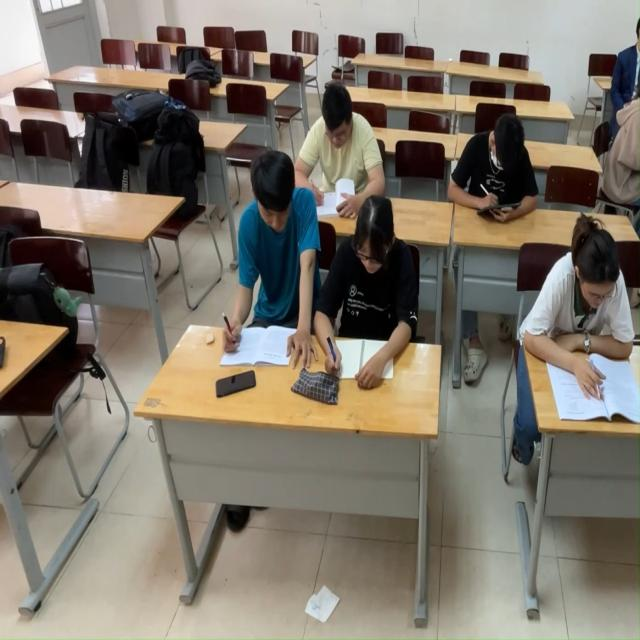read: (522, 216, 639, 419), (231, 155, 317, 378), (334, 206, 413, 402), (447, 104, 543, 228), (298, 92, 380, 221)
